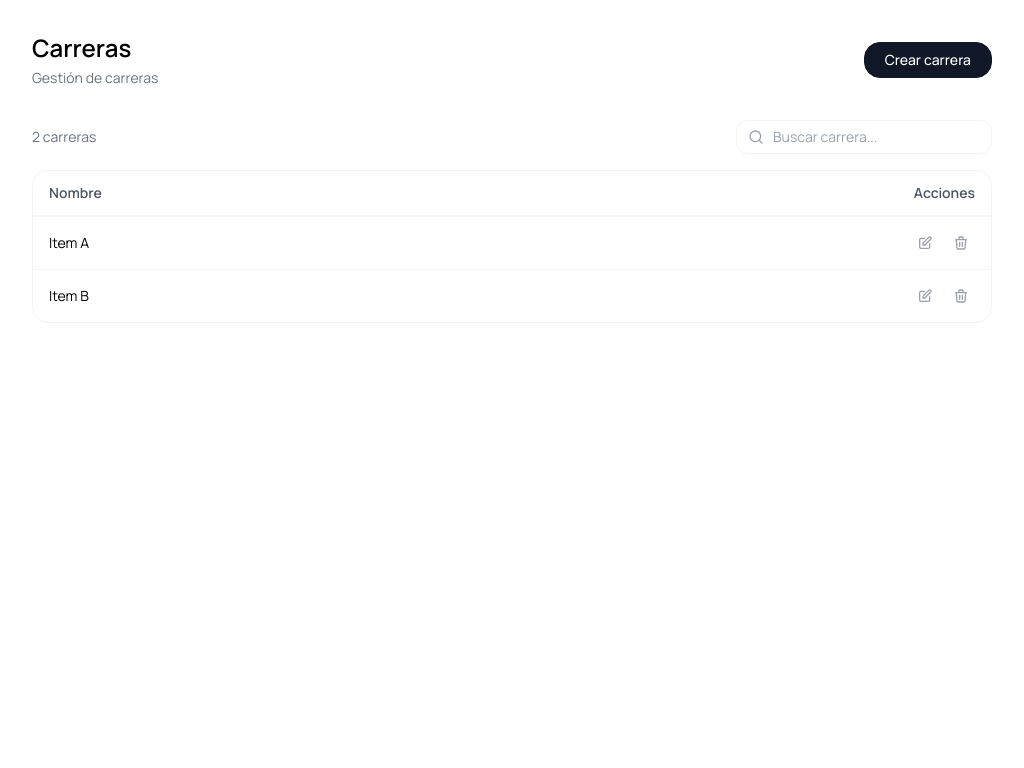
Test case: CrudAdminPage › abre el modal de editar al hacer click en editar
Expected: the text "Item A" is shown, top-left (33, 216), bottom-right (895, 270)
Click the button titled "Editar" in the row of "Item A".
click(925, 243)  # box top-left (911, 229), bottom-right (939, 257)
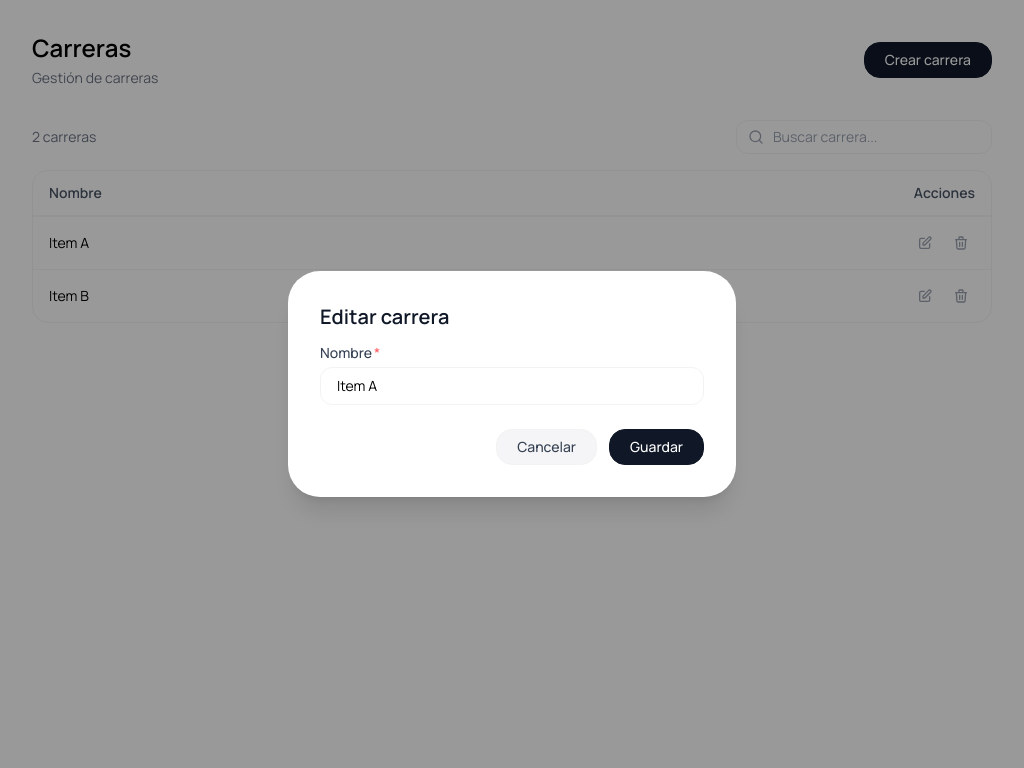
Expected: the heading "Editar carrera" is shown, top-left (320, 303), bottom-right (449, 330)
